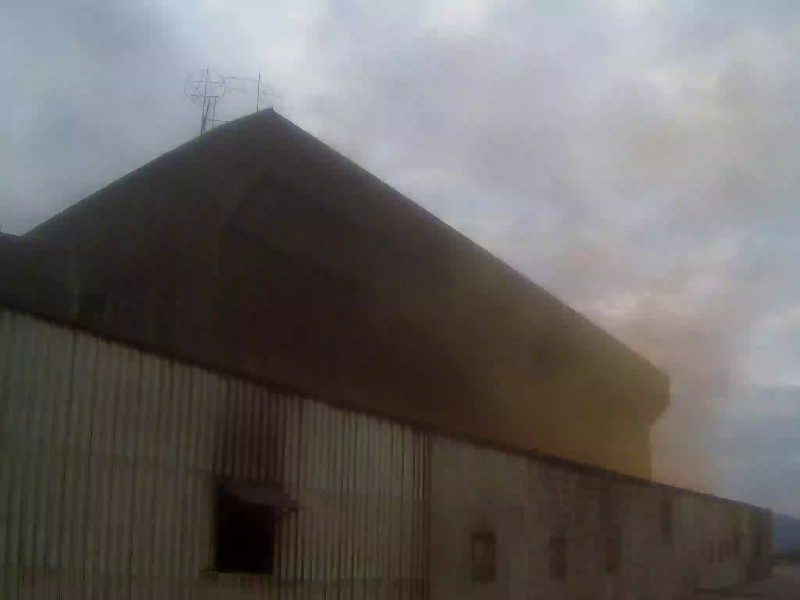Pessimo: (482, 134, 729, 484)
